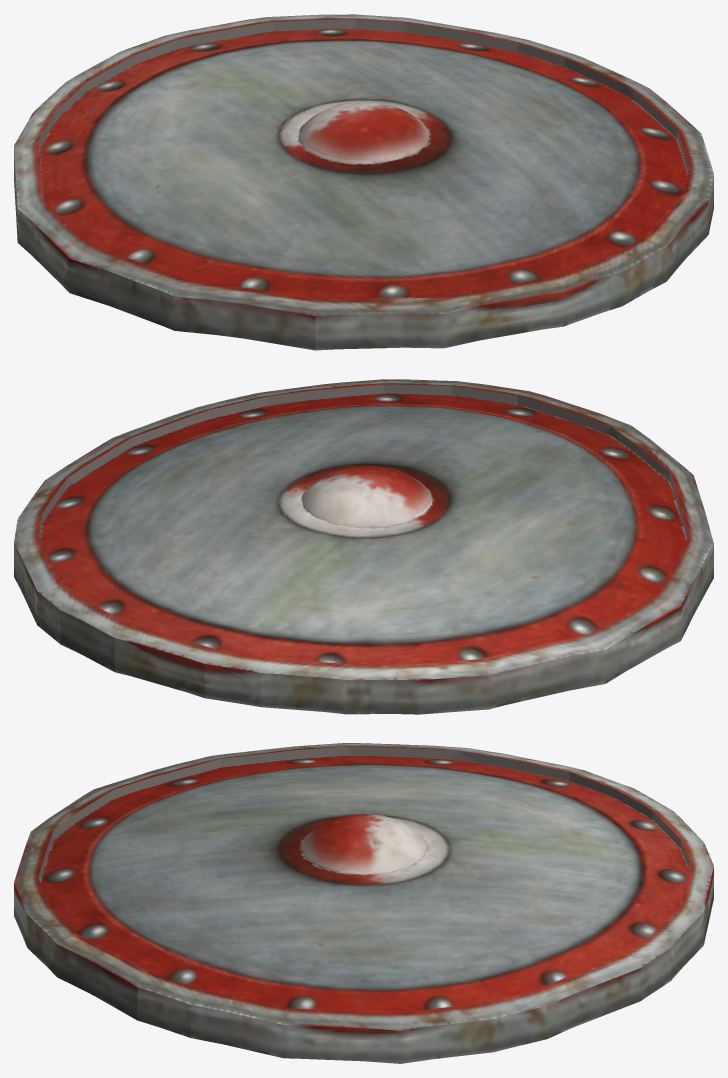
The model's file is item_mm9_10223.glb.
3 views of the same model, one above another, from view 1: azimuth 30°, elevation 25°; view 2: azimuth 150°, elevation 25°; view 3: azimuth 270°, elevation 25° (orthographic). The views are drawn at different scales.
Parts seen in each view (by area): view 1: d10223; view 2: d10223; view 3: d10223.
Boxes of the visible parts, bbox=[...] form: d10223: bbox=[14, 14, 713, 350]; d10223: bbox=[14, 379, 713, 714]; d10223: bbox=[14, 743, 713, 1063].
Size of the model in its own units: 91.8 by 14.29 by 94.5.
1 material, 1 textured.
